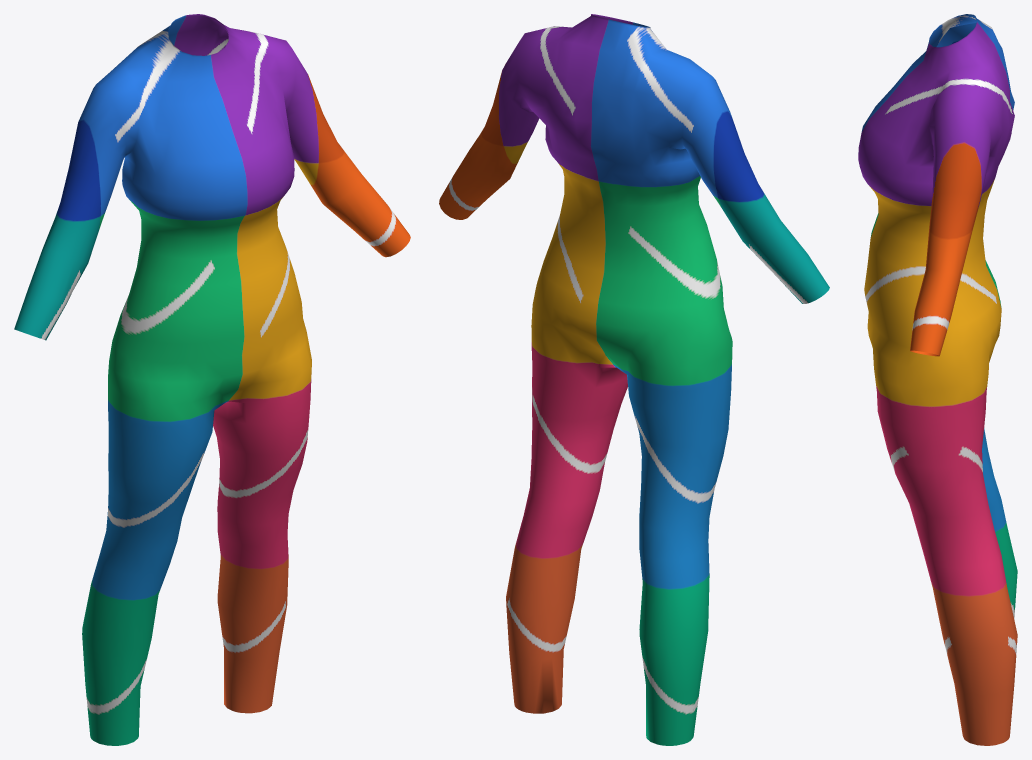
The model's file is wet-texture.obj.
3 renders of one model, left to right at view 1: azimuth 30°, elevation 25°; view 2: azimuth 150°, elevation 25°; view 3: azimuth 270°, elevation 25°, orthographic. The views are drawn at different scales.
Size of the model in its own units: 2.47 by 4.26 by 0.9006.
Materials: 1 (1 with a texture image).
